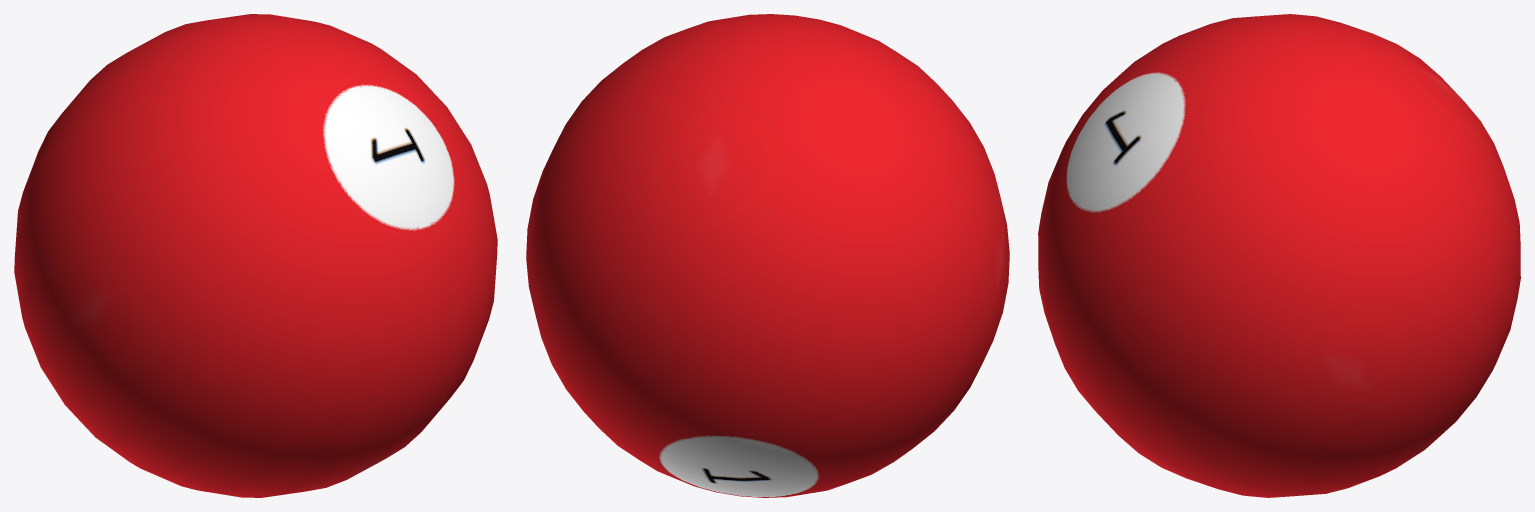
Rendered from red-ball.fbx.
3 views of the same model, side by side, from view 1: azimuth 30°, elevation 25°; view 2: azimuth 150°, elevation 25°; view 3: azimuth 270°, elevation 25° (orthographic).
Parts seen in each view (by area): view 1: Sphere; view 2: Sphere; view 3: Sphere.
Boxes of the visible parts, x1,y1,x2,y2 form: Sphere: (14, 14, 497, 497); Sphere: (526, 14, 1009, 497); Sphere: (1038, 14, 1520, 497).
Size of the model in its own units: 0.9927 by 0.9956 by 0.9951.
1 material, 1 textured.
